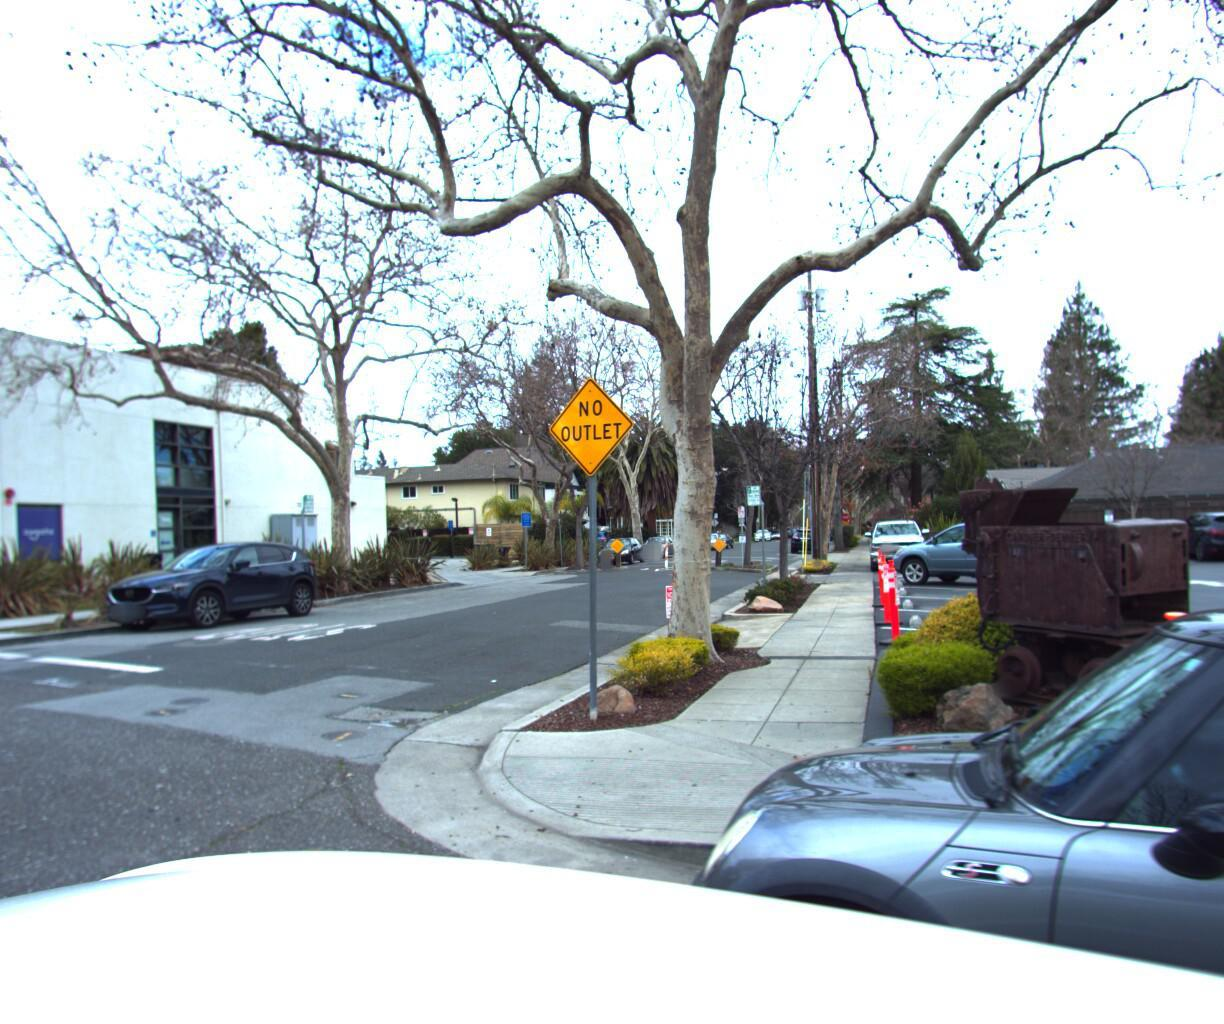car: (570, 548, 1224, 1024), (83, 534, 330, 640), (874, 513, 1092, 589), (1012, 522, 1102, 573), (861, 517, 928, 573), (594, 537, 656, 568), (636, 535, 685, 563), (789, 527, 823, 554)
